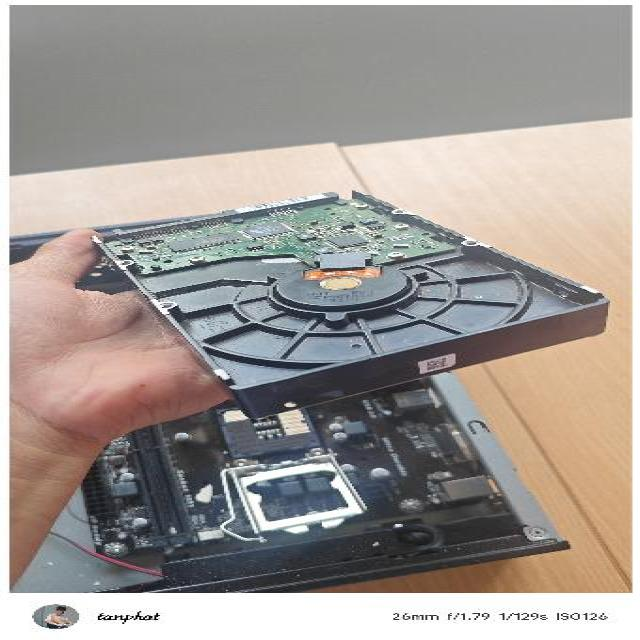DISK: (90, 182, 614, 418)
